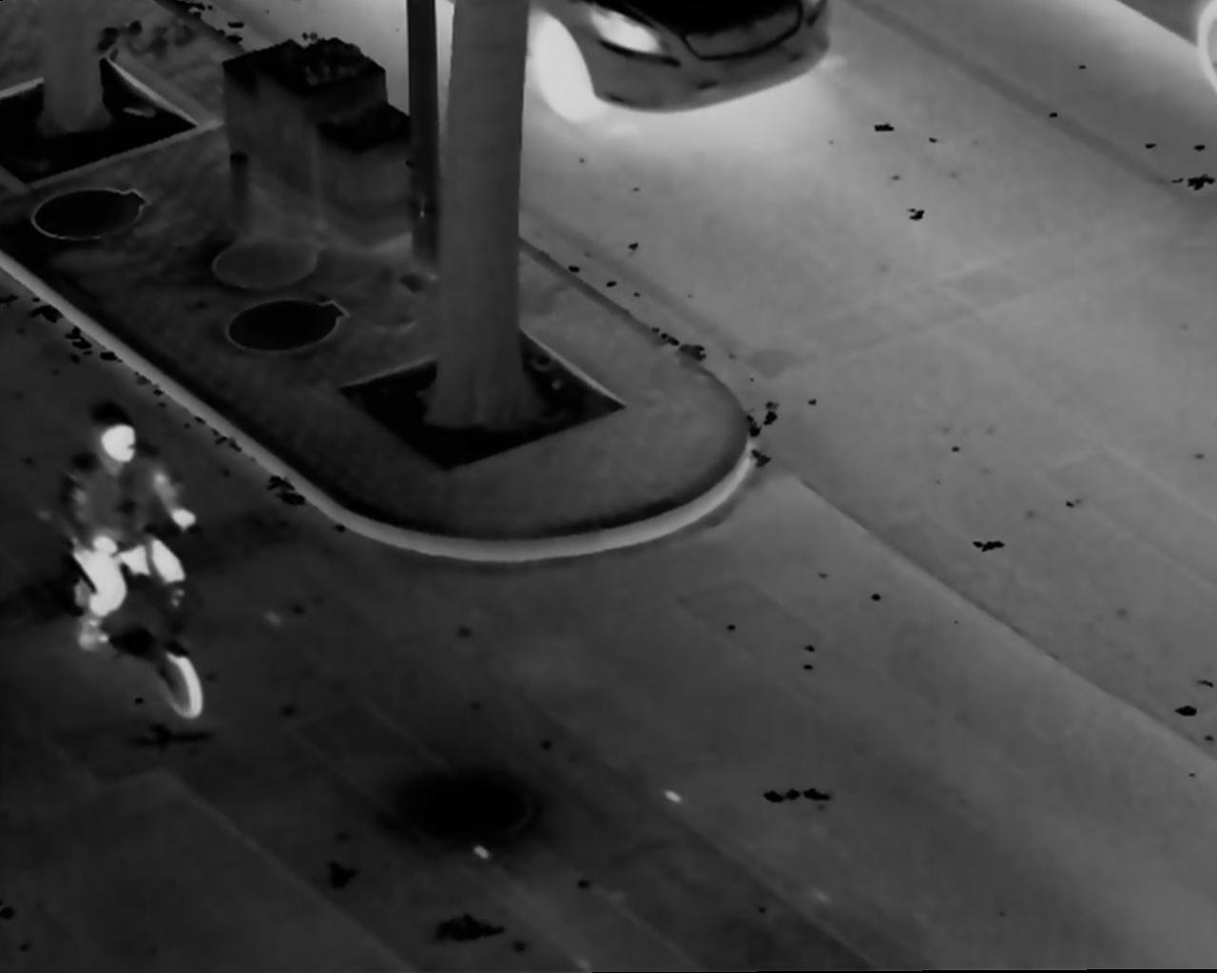person: (46, 399, 195, 657)
